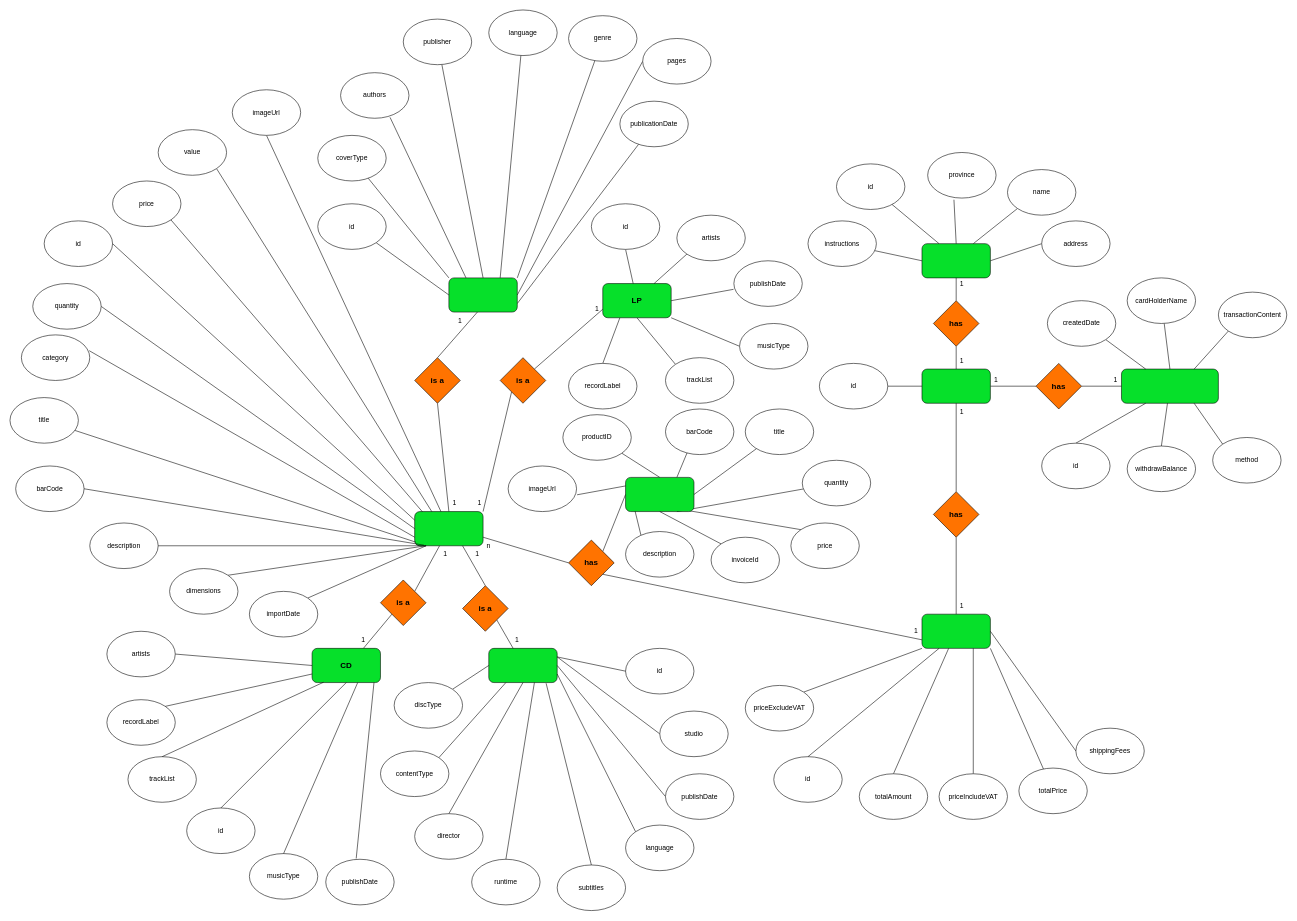
Some shapes in this 1297 by 921 pixel diagram are drawn without their labels. The shapes that lost their labels are listed below. From the top down, each one's centre as x and y in pixels, then its label:
point (955, 260): DeliveryInfo
point (482, 294): Book
point (955, 386): Order
point (1169, 386): PaymentTransaction
point (659, 494): MediaInfo
point (448, 528): Media
point (955, 631): Invoice
point (522, 665): DVD
